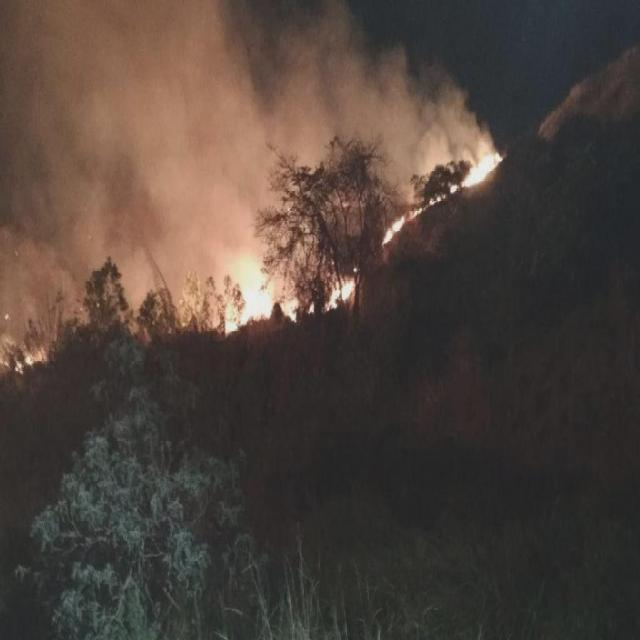Fire: (374, 129, 504, 243), (222, 259, 358, 334), (2, 337, 51, 373)
